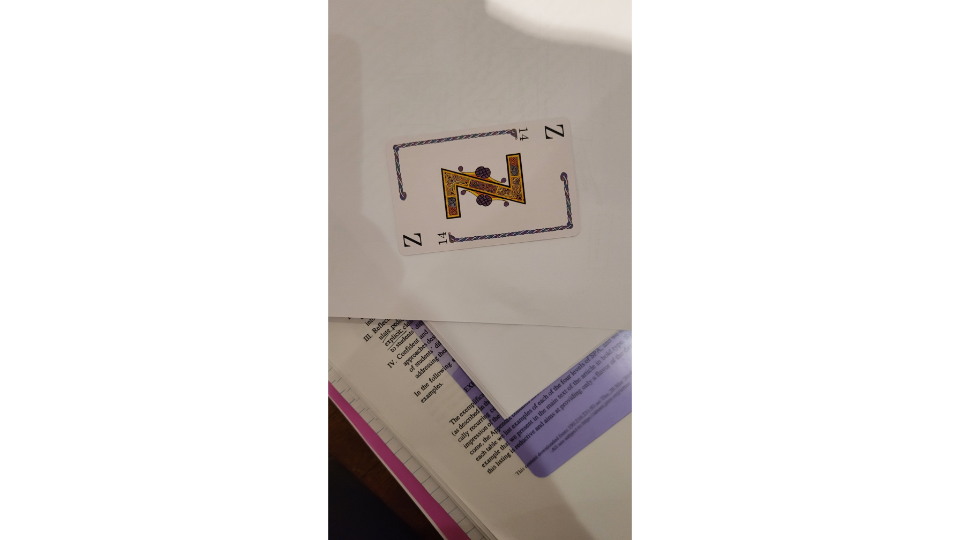Z: (384, 114, 586, 258)
